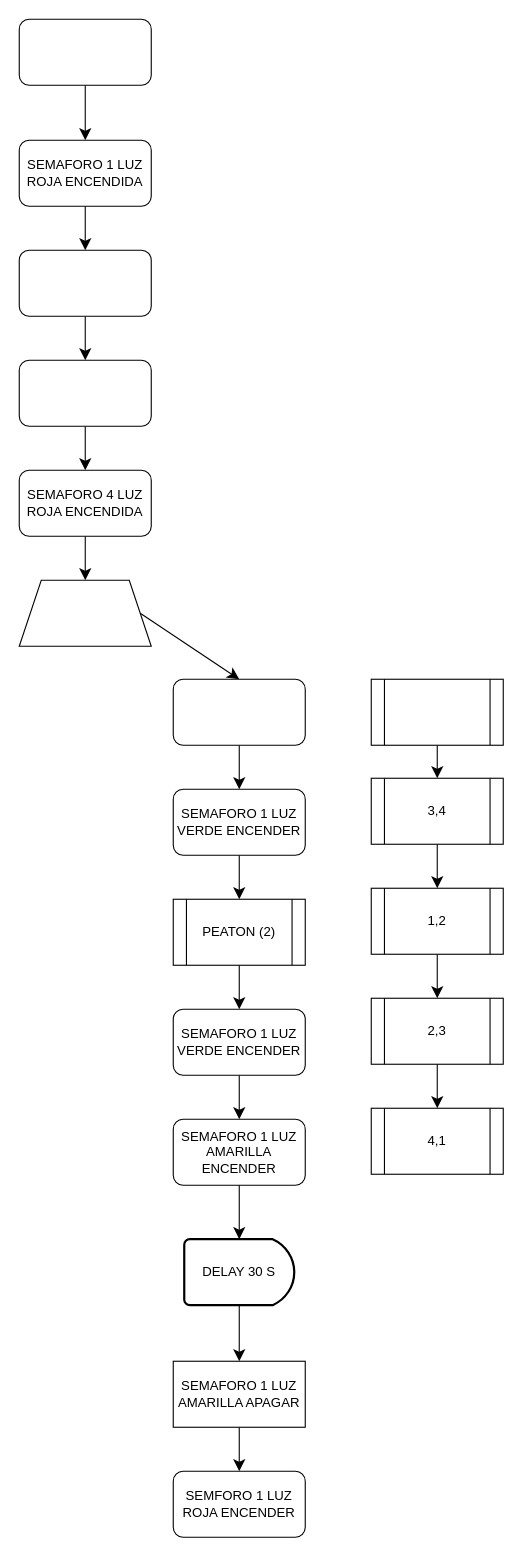
Image size: 523x1557. Some labels were removed from this diagram. The centre of each missing label's shape, as x and y in pixels:
"(SEMAFORO, PEATON)" belongs at point 436,711.
"BUCLE" belongs at point 84,612.
"INICIO" belongs at point 84,51.
"SEMAFORO 1 LUZ VERDE APAGAR" belongs at point 238,711.
"SEMAFORO 2 LUZ ROJA ENCENDIDA" belongs at point 84,282.
"SEMAFORO 3 LUZ ROJA ENCENDIDA" belongs at point 84,392.
